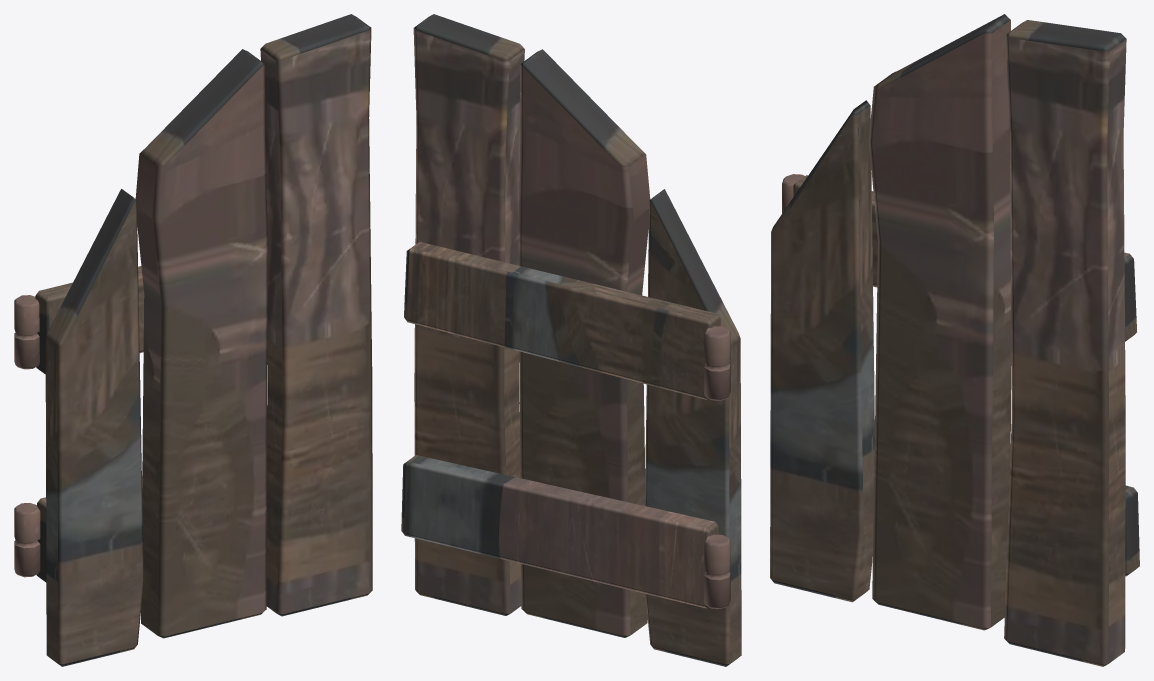
3 renders of one model, left to right at view 1: azimuth 30°, elevation 25°; view 2: azimuth 150°, elevation 25°; view 3: azimuth 330°, elevation 25°, orthographic. The views are drawn at different scales.
Visible parts, largest first — view 1: SM_HuntersLongbow_OakWood_2H_01_LOD0; view 2: SM_HuntersLongbow_OakWood_2H_01_LOD0; view 3: SM_HuntersLongbow_OakWood_2H_01_LOD0.
Boxes of the visible parts, box(x1,y1,x2,y2) form: SM_HuntersLongbow_OakWood_2H_01_LOD0: box(14, 14, 372, 666); SM_HuntersLongbow_OakWood_2H_01_LOD0: box(401, 14, 741, 666); SM_HuntersLongbow_OakWood_2H_01_LOD0: box(770, 14, 1139, 666).
Bounding box in the file's own units: 0.8843 × 1.47 × 0.1847.
